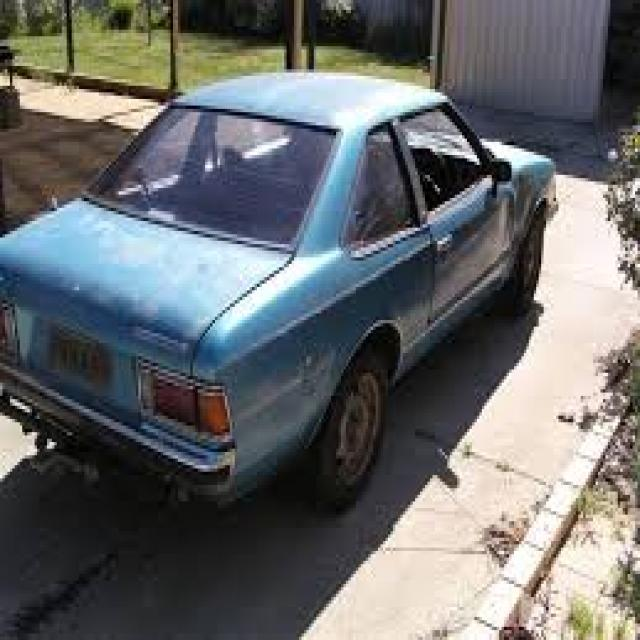minor: (501, 157, 543, 243)
